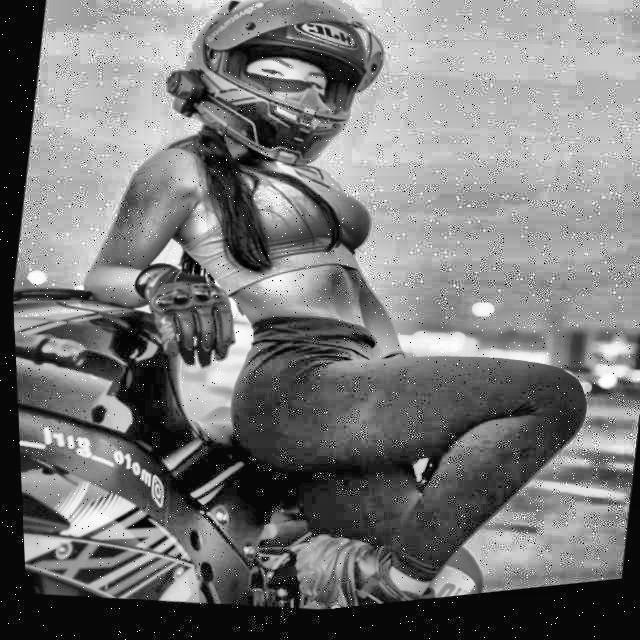Helmet: (143, 0, 404, 201)
